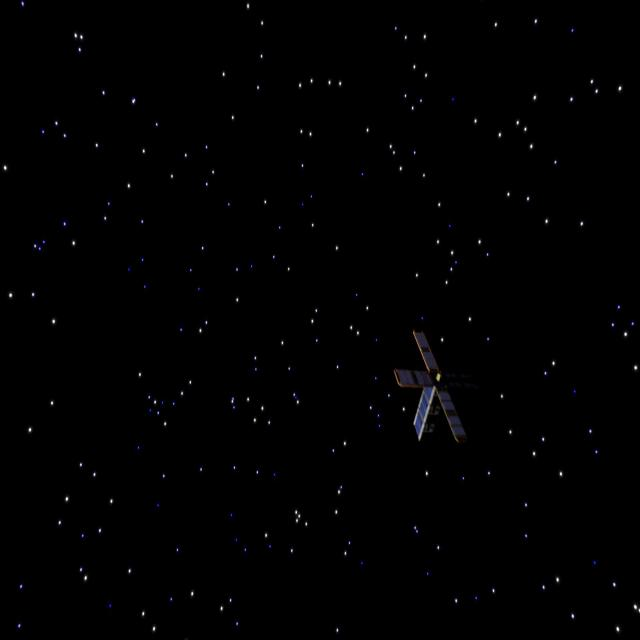satellite: (389, 322, 472, 454)
